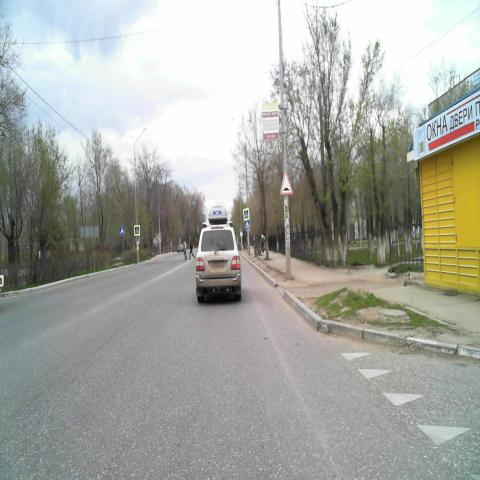1_17: (279, 172, 293, 195)
5_19_1: (243, 207, 250, 220), (134, 226, 140, 236)
5_20: (245, 219, 251, 229), (120, 226, 125, 235)
